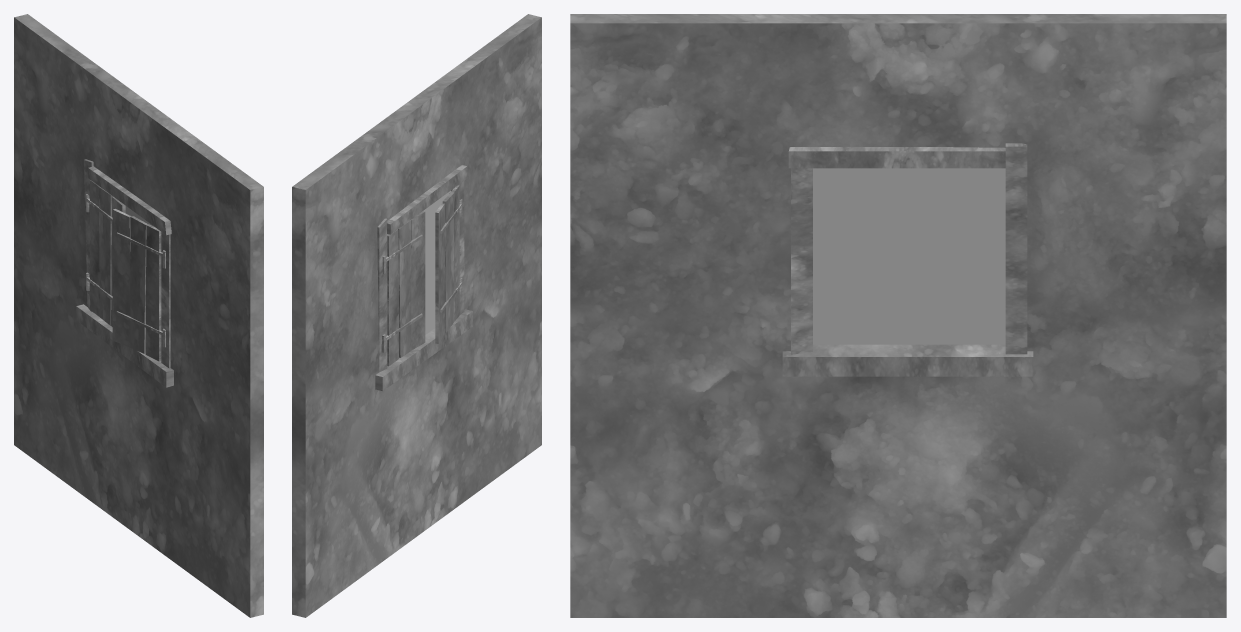
The model's file is SM_WallWindow_01d.fbx.
3 renders of one model, left to right at view 1: azimuth 30°, elevation 25°; view 2: azimuth 150°, elevation 25°; view 3: azimuth 270°, elevation 25°, orthographic. The views are drawn at different scales.
Visible parts, largest first — view 1: SM_WallWindow_01d_LOD0; view 2: SM_WallWindow_01d_LOD0; view 3: SM_WallWindow_01d_LOD0.
Part boxes in pixels (bbox=[...]): SM_WallWindow_01d_LOD0: bbox=[14, 14, 263, 617]; SM_WallWindow_01d_LOD0: bbox=[292, 14, 541, 617]; SM_WallWindow_01d_LOD0: bbox=[570, 14, 1226, 617].
Size of the model in its own units: 28.5 by 300 by 300.
